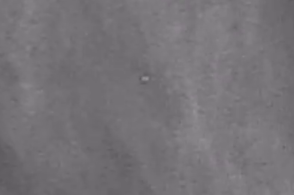Target: (143, 78, 148, 80)
